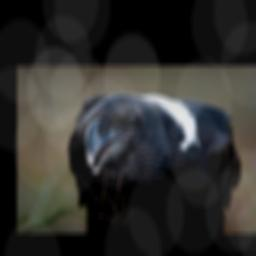Crow: (67, 92, 240, 230)
